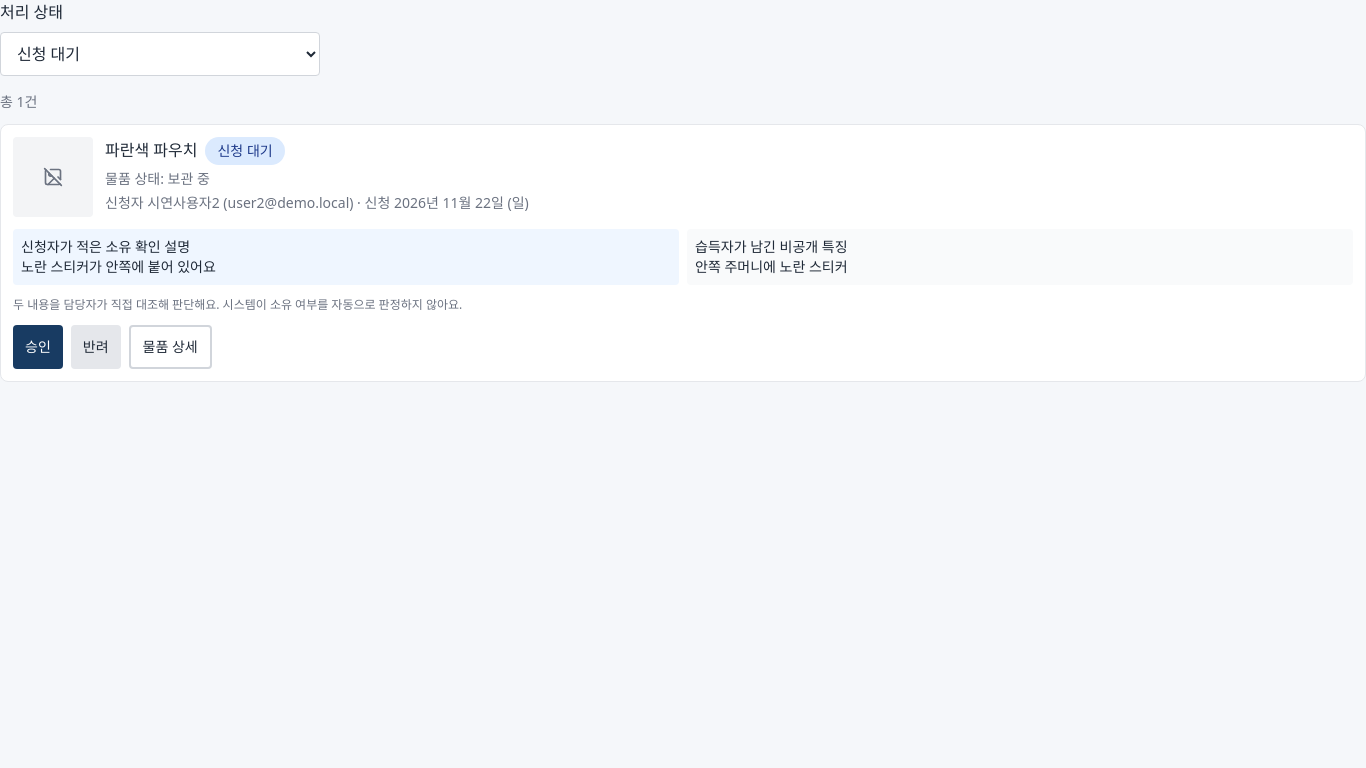
AdminReturnRequests › 반려는 사유가 없으면 보내지 않는다
Click the button "반려": x=96, y=347 [71, 325, 121, 369]
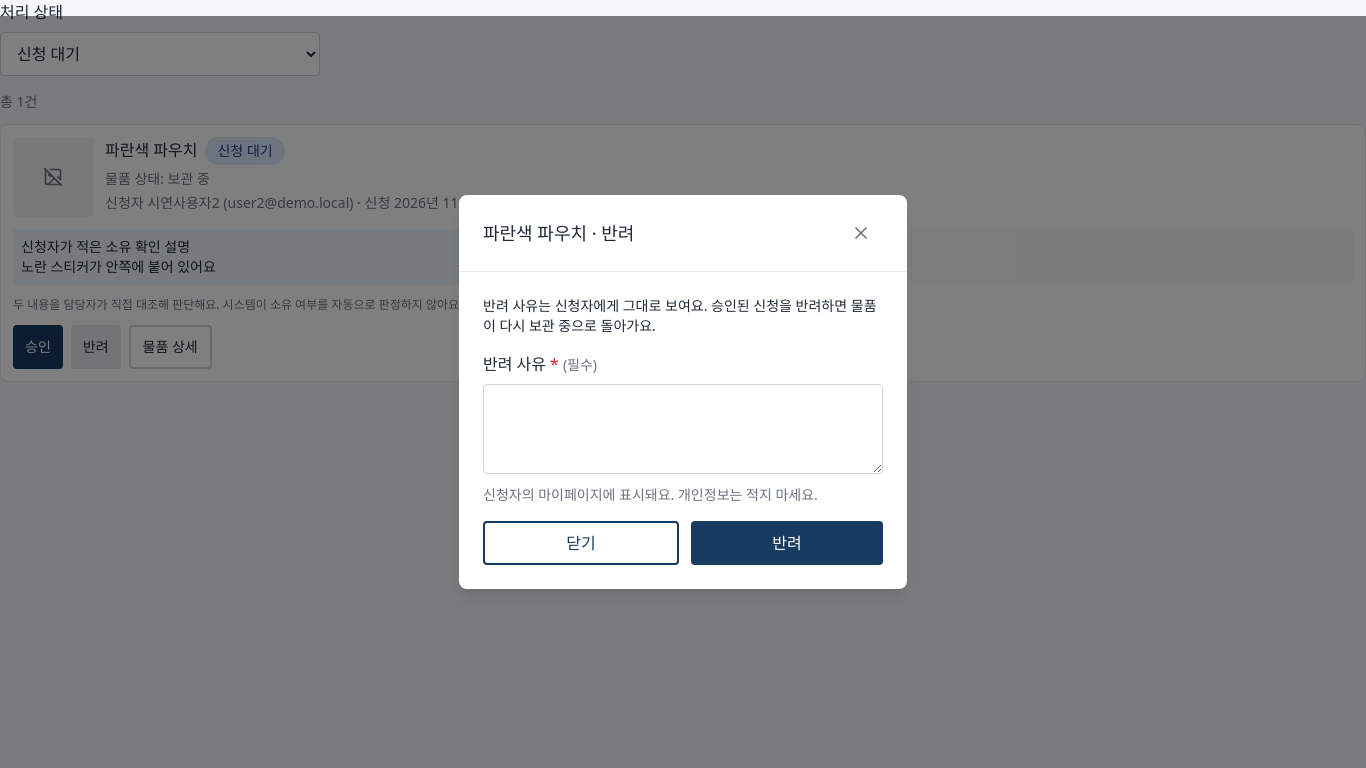
Click the submit button: x=787, y=543 [691, 521, 883, 565]
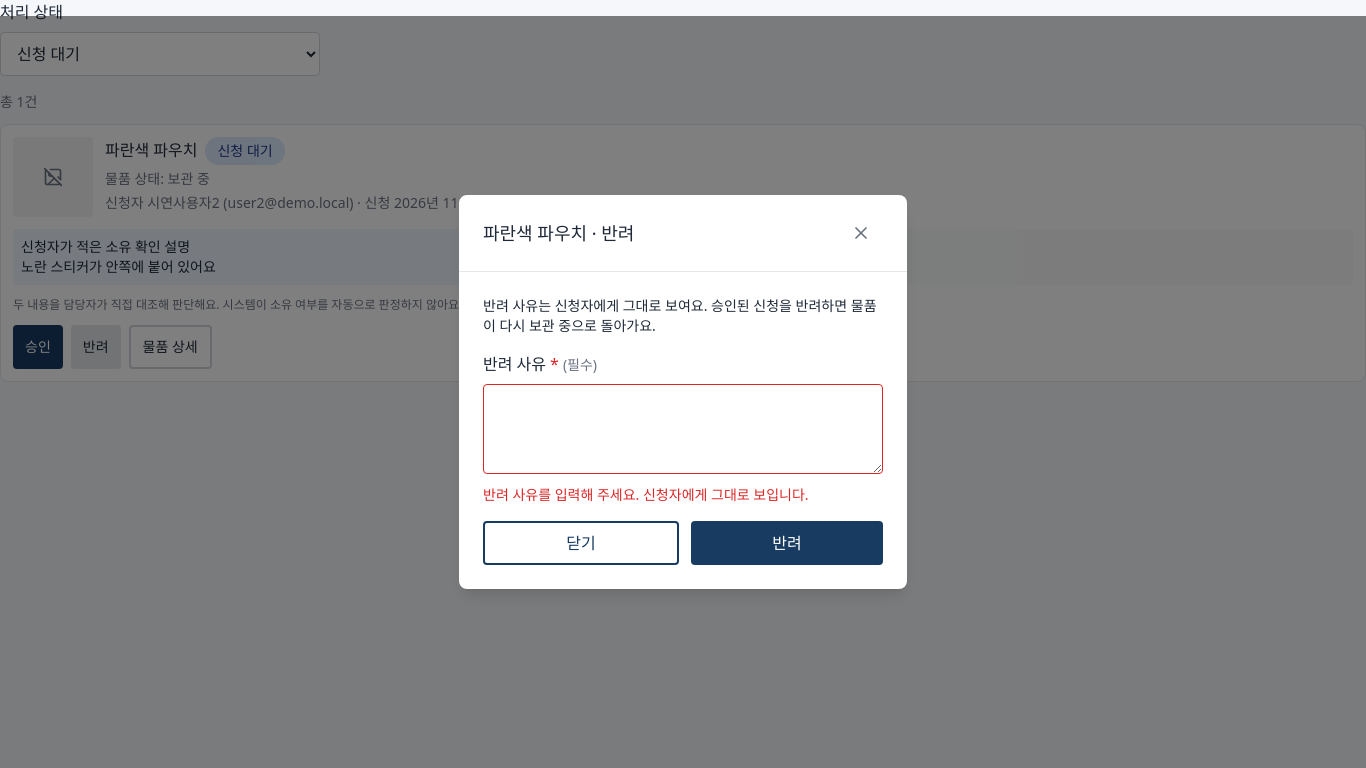
Expected: the text "반려 사유를 입력해 주세요. 신청자에게 그대로 보입니다." is shown, [483, 485, 809, 504]
